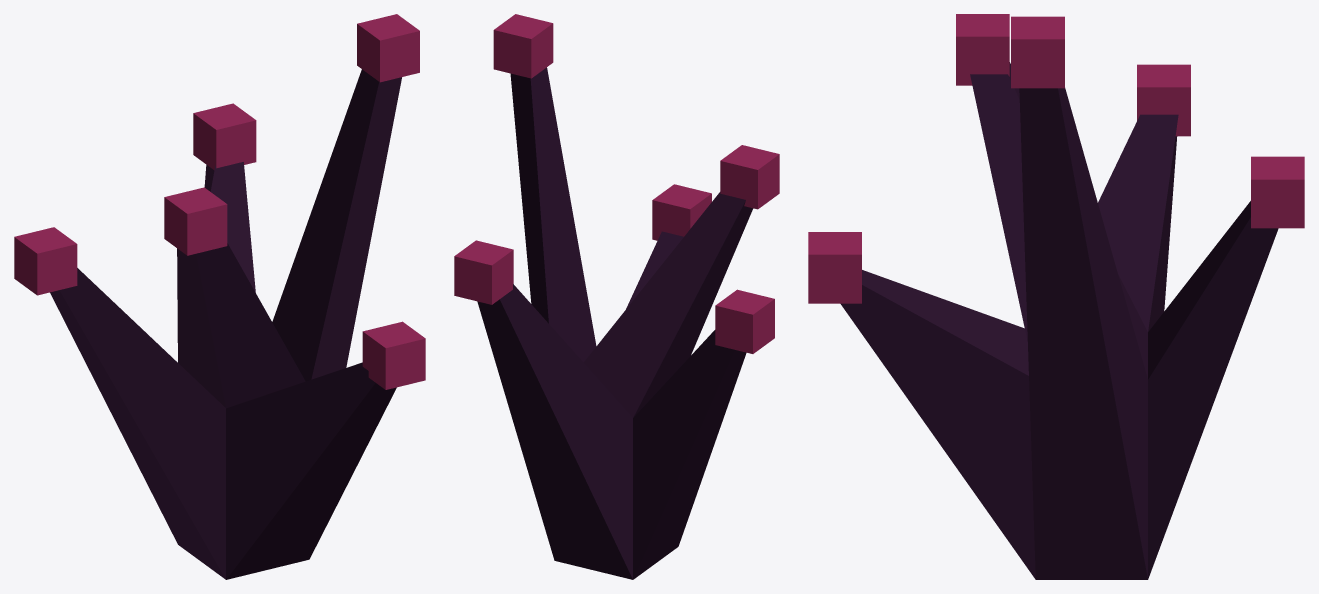
The model's file is flower.FBX.
3 renders of one model, left to right at view 1: azimuth 30°, elevation 25°; view 2: azimuth 150°, elevation 25°; view 3: azimuth 270°, elevation 25°, orthographic. The views are drawn at different scales.
Visible parts, largest first — view 1: Box076, Box081, Box079, Box080, Box078, Box077; view 2: Box076, Box078, Box081, Box077, Box079, Box080; view 3: Box076, Box077, Box078, Box080, Box079, Box081.
Boxes of the visible parts, left/top/right/bottom form: Box076: left=50, top=69, right=401, bottom=579; Box081: left=14, top=227, right=77, bottom=295; Box079: left=164, top=187, right=227, bottom=255; Box080: left=362, top=321, right=425, bottom=389; Box078: left=357, top=14, right=419, bottom=82; Box077: left=193, top=103, right=256, bottom=170; Box076: left=477, top=67, right=753, bottom=579; Box078: left=493, top=14, right=553, bottom=78; Box081: left=715, top=289, right=774, bottom=353; Box077: left=454, top=240, right=513, bottom=304; Box079: left=720, top=145, right=779, bottom=209; Box080: left=652, top=184, right=711, bottom=240; Box076: left=840, top=62, right=1278, bottom=579; Box077: left=1251, top=156, right=1304, bottom=228; Box078: left=1011, top=16, right=1064, bottom=88; Box080: left=808, top=232, right=861, bottom=303; Box079: left=956, top=14, right=1009, bottom=85; Box081: left=1137, top=64, right=1190, bottom=136.
Bounding box in the file's own units: 1.65 × 2.45 × 1.84.
